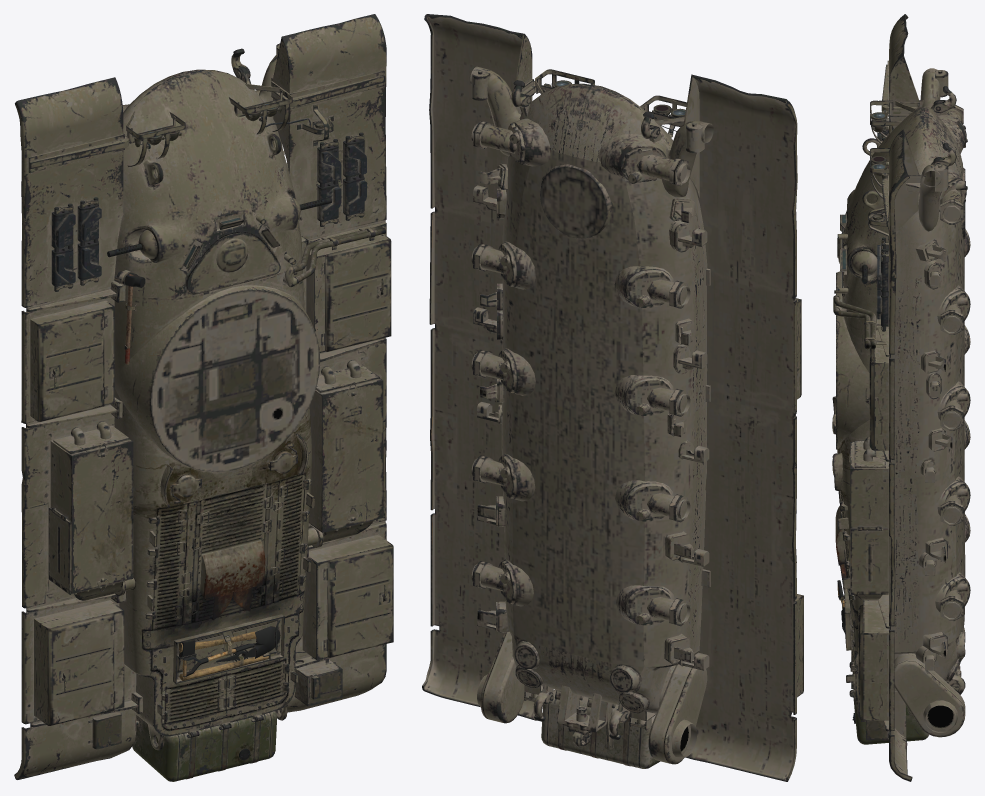
Rendered from Hull.glb.
3 renders of one model, left to right at view 1: azimuth 30°, elevation 25°; view 2: azimuth 150°, elevation 25°; view 3: azimuth 270°, elevation 25°, orthographic. The views are drawn at different scales.
Visible parts, largest first — view 1: set_0_group_0; view 2: set_0_group_0; view 3: set_0_group_0.
Boxes of the visible parts, box(x1,y1,x2,y2) form: set_0_group_0: box(14, 14, 393, 781); set_0_group_0: box(422, 14, 803, 781); set_0_group_0: box(832, 14, 970, 781).
Size of the model in its own units: 3.4 by 6.21 by 1.23.
Materials: 1 (1 with a texture image).
